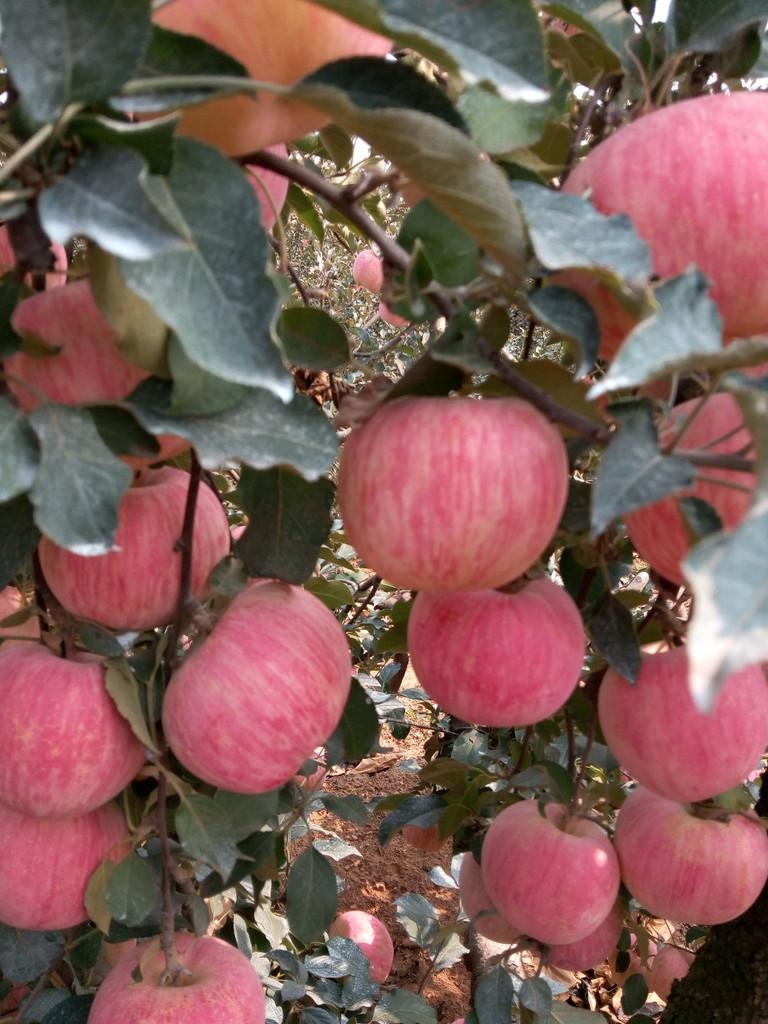apple: (560, 84, 768, 371), (338, 390, 566, 594), (158, 580, 351, 788), (32, 462, 226, 634), (601, 623, 766, 799), (409, 575, 588, 731), (1, 637, 139, 816), (621, 777, 768, 931), (480, 786, 627, 940)
